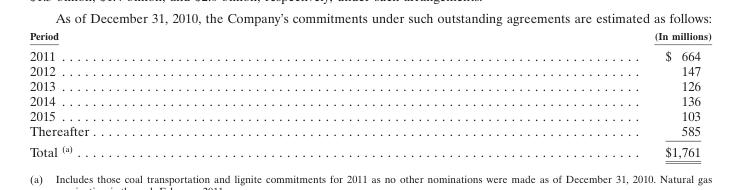table: (28, 29, 711, 158)
table column: (28, 29, 370, 158), (370, 29, 711, 158)
table column header: (28, 29, 711, 44)
table row: (28, 44, 711, 62), (28, 140, 711, 158), (28, 123, 711, 140), (28, 107, 711, 123), (28, 29, 711, 44), (28, 62, 711, 77), (28, 77, 711, 92), (28, 92, 711, 107)
